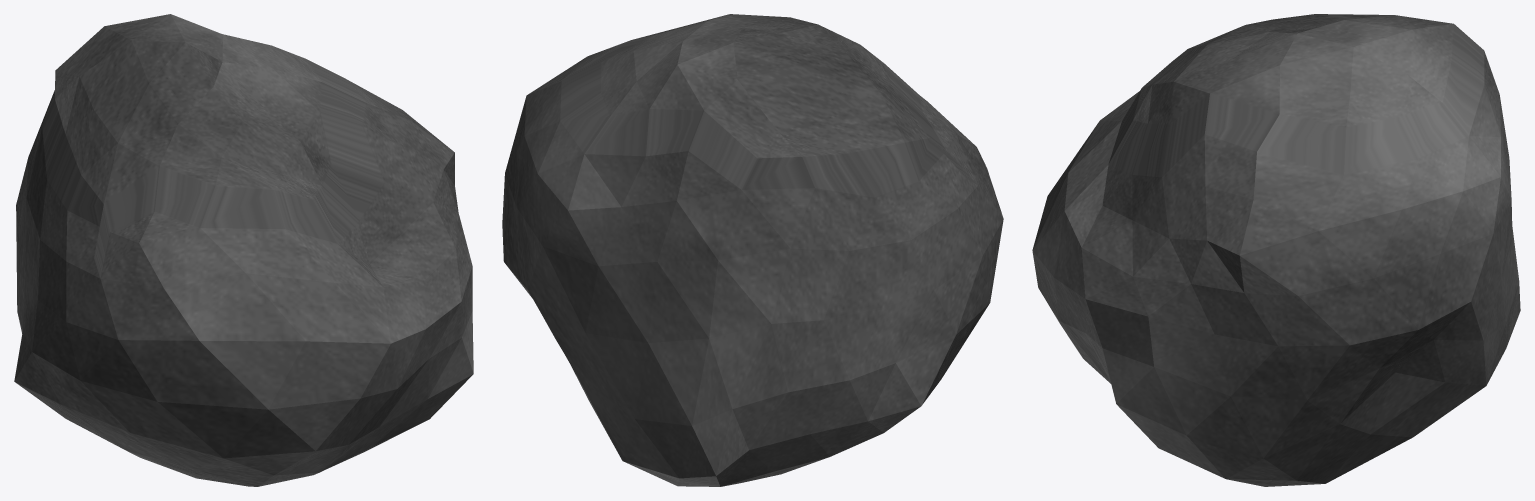
The model's file is Asteroid3.obj.
3 views of the same model, side by side, from view 1: azimuth 30°, elevation 25°; view 2: azimuth 150°, elevation 25°; view 3: azimuth 270°, elevation 25° (orthographic). The views are drawn at different scales.
Visible parts, largest first — view 1: Icosphere; view 2: Icosphere; view 3: Icosphere.
Part boxes in pixels (x1=…): Icosphere: x1=14, y1=14, x2=473, y2=486; Icosphere: x1=502, y1=14, x2=1003, y2=486; Icosphere: x1=1032, y1=14, x2=1520, y2=486.
Size of the model in its own units: 1.86 by 1.83 by 1.91.
